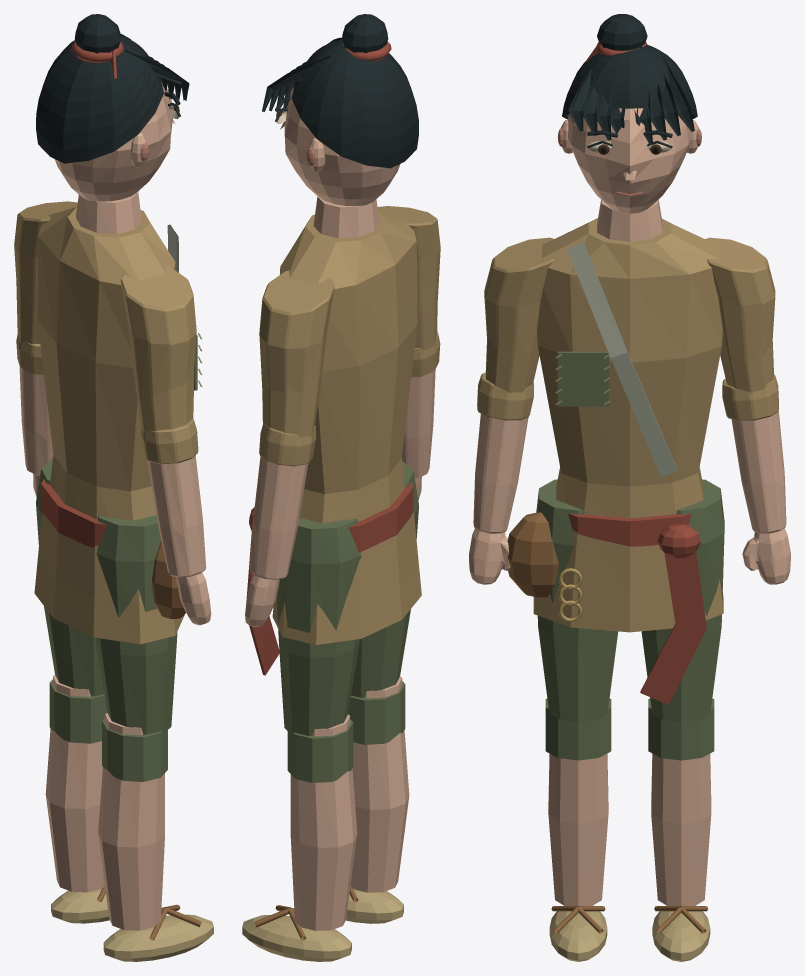
Rendered from night_ashi.glb.
3 views of the same model, side by side, from view 1: azimuth 30°, elevation 25°; view 2: azimuth 150°, elevation 25°; view 3: azimuth 270°, elevation 25° (orthographic).
Visible parts, largest first — view 1: Chest, Head, Shin_L, Leg_L, Shin_R, Arm_L, Fore_L, Foot_L, Leg_R, Arm_R, Fore_R, Foot_R (+1 smaller); view 2: Chest, Head, Leg_R, Shin_R, Shin_L, Arm_R, Fore_R, Foot_R, Arm_L, Leg_L, Fore_L, Foot_L (+1 smaller); view 3: Chest, Head, Shin_L, Shin_R, Leg_L, Arm_R, Arm_L, Leg_R, Fore_R, Fore_L, Foot_L, Foot_R (+2 smaller).
Boxes of the visible parts, x1=… form: Chest: x1=34, y1=192, x2=202, y2=644; Head: x1=36, y1=14, x2=189, y2=201; Shin_L: x1=98, y1=713, x2=167, y2=930; Leg_L: x1=95, y1=515, x2=177, y2=734; Shin_R: x1=45, y1=674, x2=107, y2=892; Arm_L: x1=120, y1=266, x2=196, y2=433; Fore_L: x1=141, y1=419, x2=206, y2=577; Foot_L: x1=103, y1=904, x2=213, y2=961; Leg_R: x1=36, y1=458, x2=104, y2=696; Arm_R: x1=14, y1=201, x2=77, y2=344; Fore_R: x1=16, y1=334, x2=53, y2=475; Foot_R: x1=51, y1=886, x2=109, y2=923; Chest: x1=246, y1=196, x2=421, y2=675; Head: x1=262, y1=14, x2=418, y2=205; Leg_R: x1=276, y1=517, x2=361, y2=735; Shin_R: x1=287, y1=714, x2=357, y2=930; Shin_L: x1=348, y1=676, x2=409, y2=892; Arm_R: x1=259, y1=270, x2=334, y2=437; Fore_R: x1=249, y1=424, x2=316, y2=579; Foot_R: x1=242, y1=905, x2=351, y2=961; Arm_L: x1=377, y1=206, x2=440, y2=350; Leg_L: x1=351, y1=461, x2=418, y2=697; Fore_L: x1=401, y1=332, x2=440, y2=478; Foot_L: x1=346, y1=886, x2=403, y2=923; Chest: x1=507, y1=199, x2=723, y2=704; Head: x1=557, y1=14, x2=701, y2=213; Shin_L: x1=545, y1=698, x2=611, y2=906; Shin_R: x1=648, y1=698, x2=714, y2=906; Leg_L: x1=536, y1=479, x2=618, y2=722; Arm_R: x1=705, y1=237, x2=775, y2=393; Arm_L: x1=484, y1=237, x2=553, y2=393; Leg_R: x1=641, y1=479, x2=724, y2=722; Fore_R: x1=722, y1=374, x2=786, y2=533; Fore_L: x1=473, y1=372, x2=533, y2=533; Foot_L: x1=549, y1=905, x2=607, y2=961; Foot_R: x1=652, y1=905, x2=710, y2=961.
Size of the model in its own units: 0.1442 by 0.929 by 0.2968.
